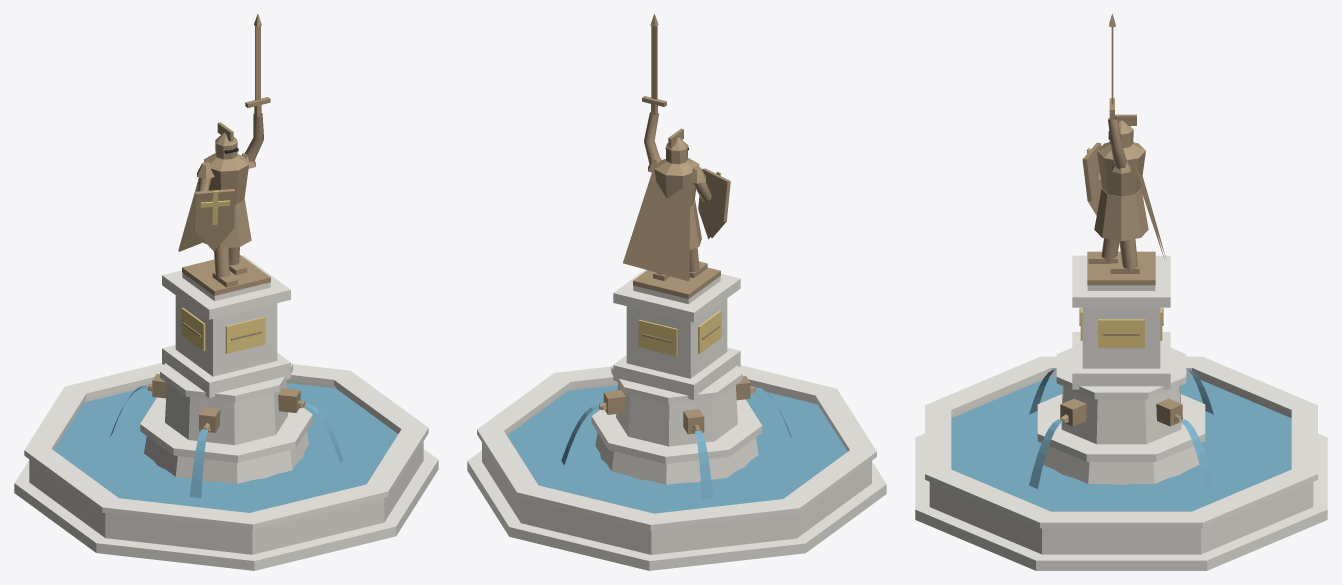
File: monument.glb
3 renders of one model, left to right at view 1: azimuth 30°, elevation 25°; view 2: azimuth 150°, elevation 25°; view 3: azimuth 270°, elevation 25°, orthographic. The views are drawn at different scales.
Parts seen in each view (by area): view 1: monument, monument_water, monument_water_fall; view 2: monument, monument_water, monument_water_fall; view 3: monument, monument_water, monument_water_fall.
Boxes of the visible parts, x1=… form: monument: x1=14, y1=14, x2=438, y2=570; monument_water: x1=54, y1=383, x2=398, y2=512; monument_water_fall: x1=110, y1=385, x2=343, y2=498; monument: x1=467, y1=14, x2=886, y2=570; monument_water: x1=507, y1=385, x2=847, y2=513; monument_water_fall: x1=561, y1=387, x2=792, y2=498; monument: x1=915, y1=14, x2=1327, y2=570; monument_water: x1=951, y1=376, x2=1291, y2=511; monument_water_fall: x1=1029, y1=368, x2=1213, y2=488.
Bounding box in the file's own units: 7.95 × 10.29 × 7.95.
